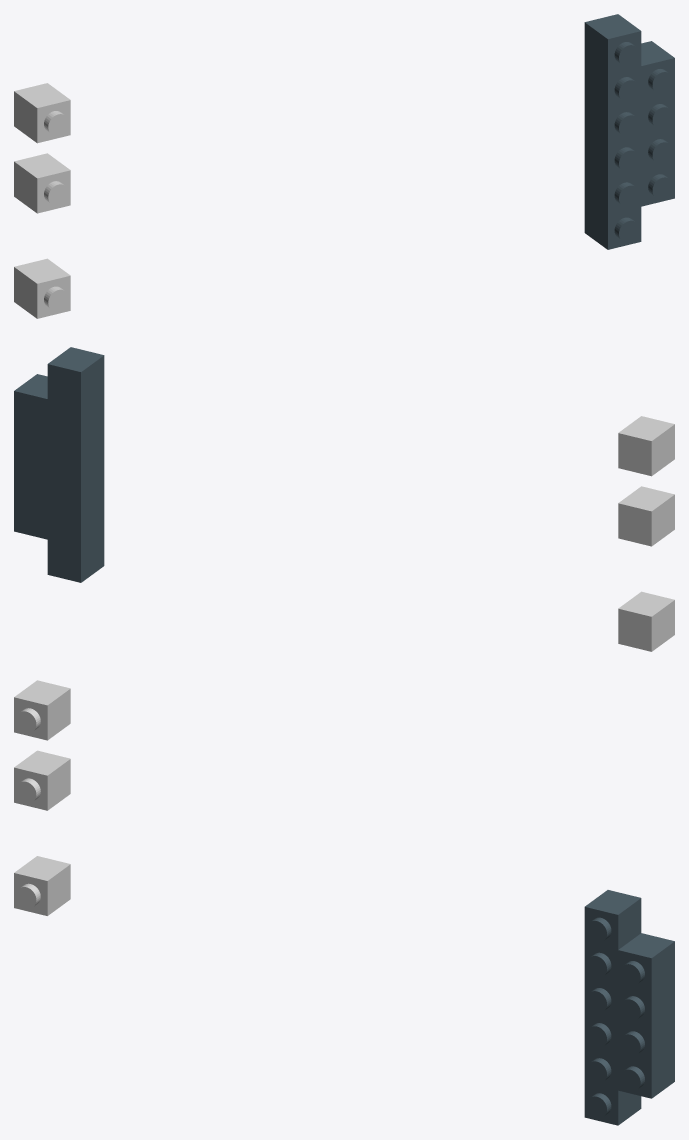
Rendered from full.glb.
3 views of the same model, one above another, from view 1: azimuth 30°, elevation 25°; view 2: azimuth 150°, elevation 25°; view 3: azimuth 330°, elevation 25° (orthographic).
Parts seen in each view (by area): view 1: world; view 2: world; view 3: world.
Boxes of the visible parts, <box> form: world: <box>14,14,674,318</box>; world: <box>14,347,674,651</box>; world: <box>14,680,674,1125</box>.
Bounding box in the file's own units: 152 × 64 × 11.4.
